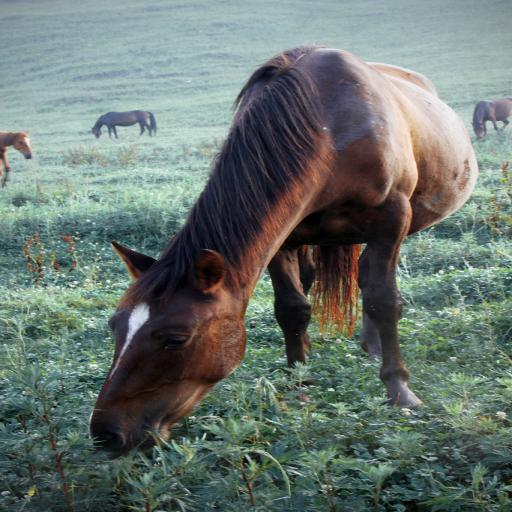Horse: (90, 40, 482, 456), (94, 108, 156, 142), (0, 131, 32, 193), (473, 93, 512, 139)
